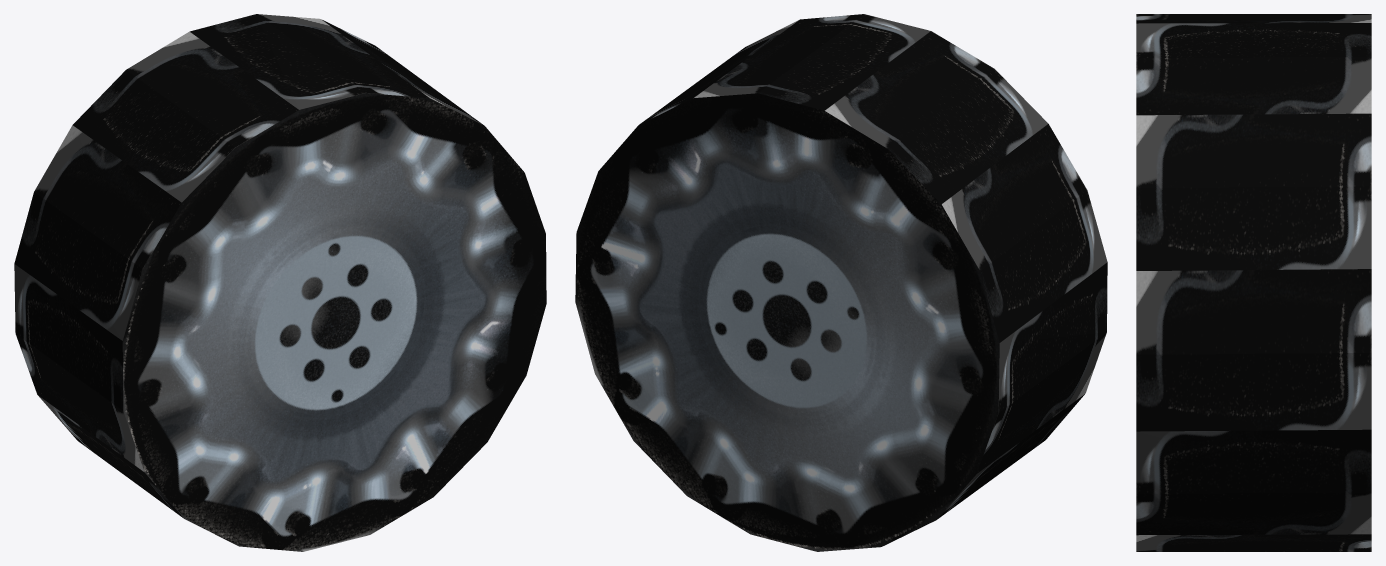
File: moma_wheel_visual.dae
3 renders of one model, left to right at view 1: azimuth 30°, elevation 25°; view 2: azimuth 150°, elevation 25°; view 3: azimuth 270°, elevation 25°, orthographic. The views are drawn at different scales.
Parts seen in each view (by area): view 1: Cylinder_002; view 2: Cylinder_002; view 3: Cylinder_002.
Boxes of the visible parts, x1,y1,x2,y2 form: Cylinder_002: (14,14,546,551); Cylinder_002: (575,14,1107,551); Cylinder_002: (1136,14,1371,551).
Bounding box in the file's own units: 0.1031 × 0.0455 × 0.1031.
1 material, 1 textured.
